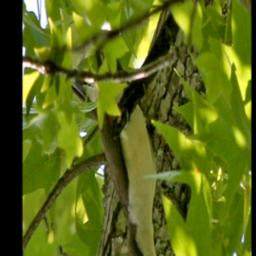Cuckoo: (71, 48, 171, 256)
